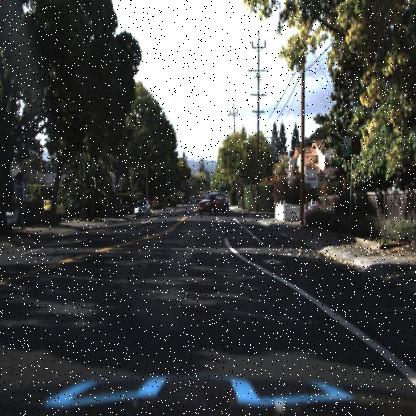car: (35, 193, 68, 222), (196, 190, 230, 216), (130, 195, 152, 219)
